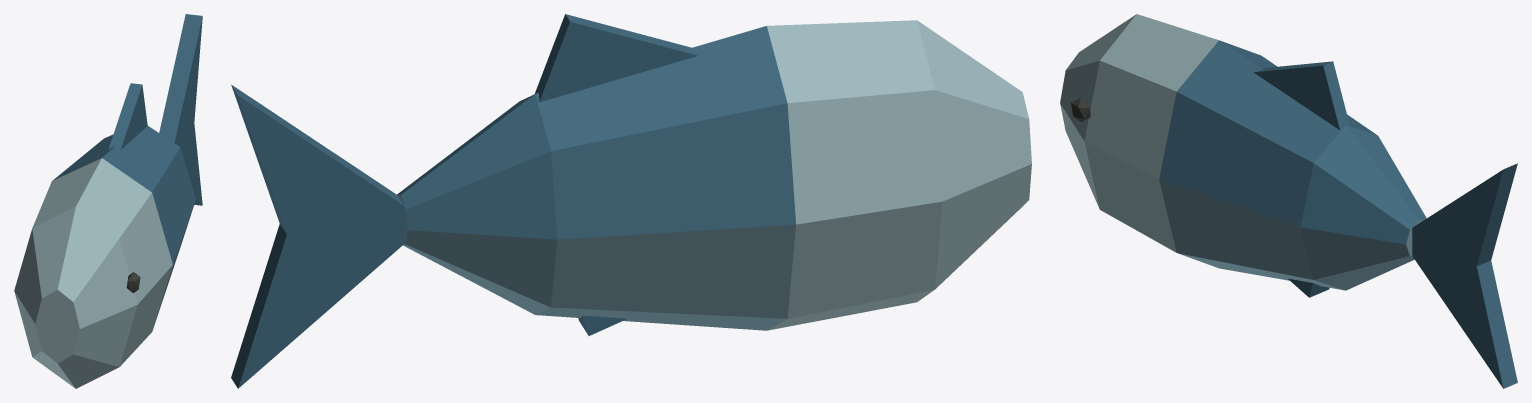
The model's file is fish.glb.
The picture shows the model from 3 angles, left to right: view 1: azimuth 30°, elevation 25°; view 2: azimuth 150°, elevation 25°; view 3: azimuth 270°, elevation 25°; orthographic projection. The views are drawn at different scales.
Visible parts, largest first — view 1: fish; view 2: fish; view 3: fish.
Part boxes in pixels (x1=…): fish: x1=14, y1=14, x2=202, y2=388; fish: x1=231, y1=14, x2=1031, y2=388; fish: x1=1060, y1=14, x2=1517, y2=388.
Bounding box in the file's own units: 1.45 × 0.88 × 1.45.
